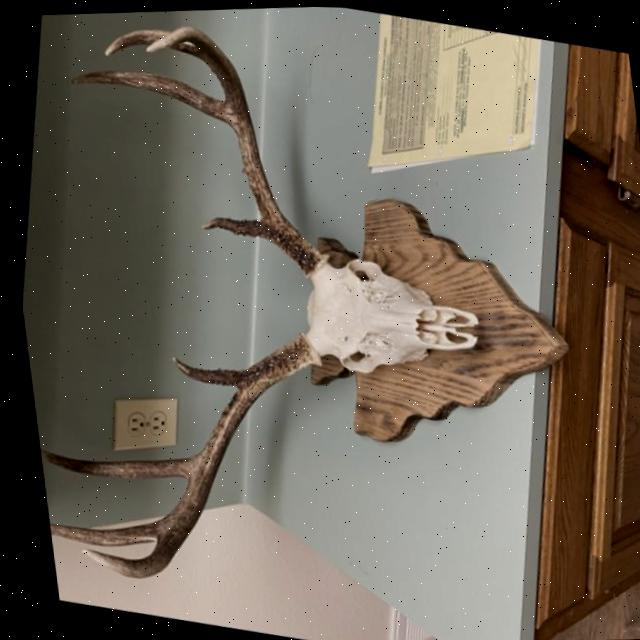L-F: (144, 25, 318, 270)
L-G1: (196, 216, 261, 238)
L-G2: (68, 70, 225, 122)
R-F: (72, 334, 307, 578)
R-G1: (165, 354, 240, 387)
R-G2: (33, 450, 186, 478)
R-G3: (41, 520, 150, 546)
